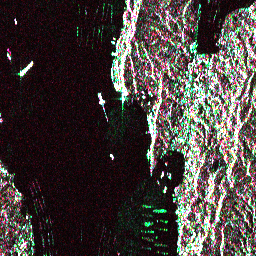ship: (15, 58, 37, 79), (94, 90, 107, 107), (4, 49, 13, 62), (107, 151, 115, 161), (12, 15, 19, 26)
